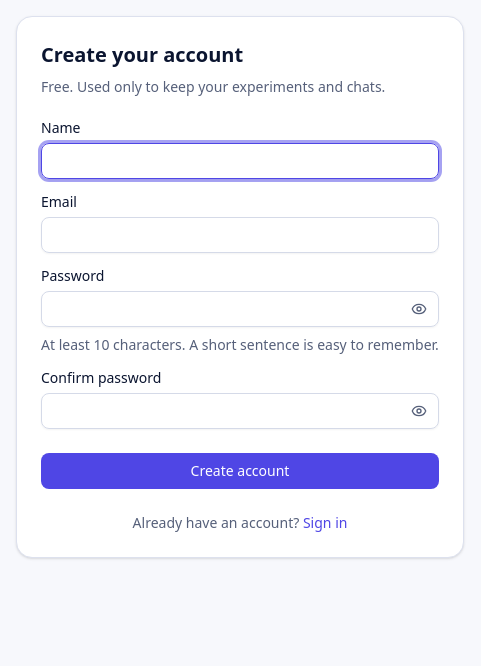
Create account › puts the server's 'email already registered' message under the email field
Type "Asha" into the field labelled "Name" at (240, 161), box [41,143,439,179]
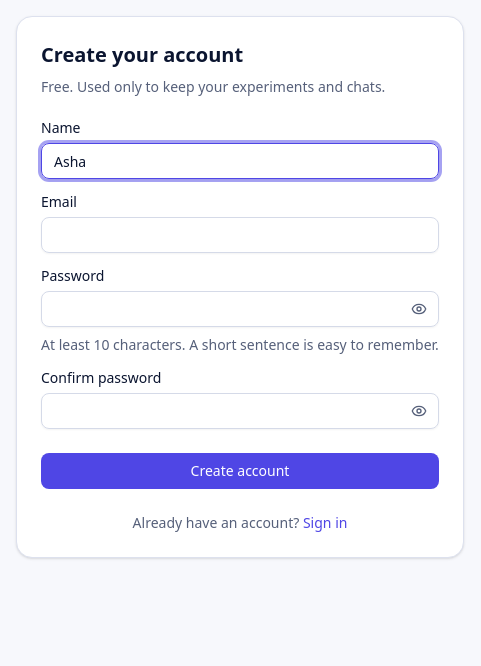
Type "asha@example.com" into the field labelled "Email" at (240, 235), box [41,217,439,253]
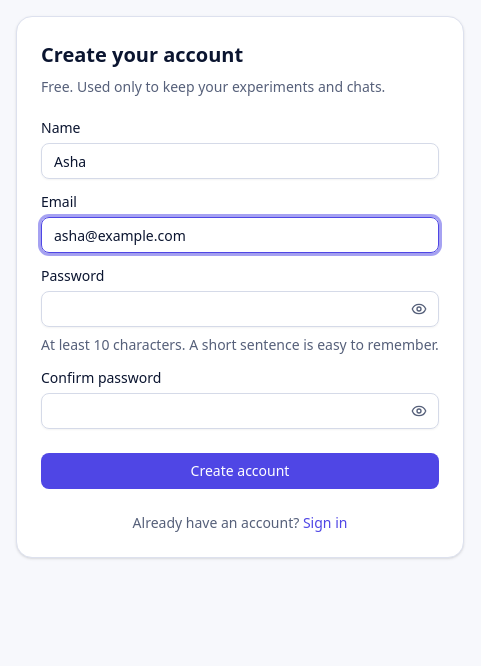
Type "correct horse" into the password field labelled "Password" at (240, 309), box [41,291,439,327]
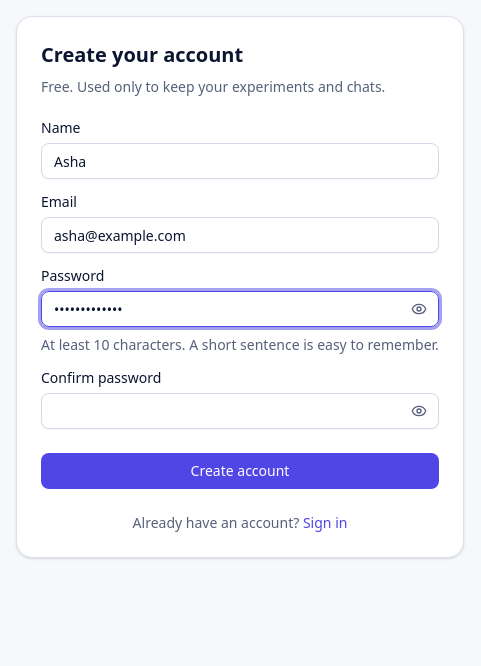
Type "correct horse" into the password field labelled "Confirm password" at (240, 411), box [41,393,439,429]
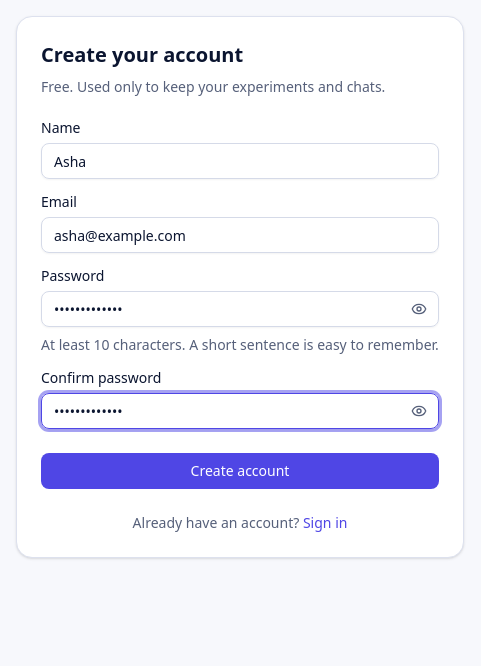
Click the button "Create account" at (240, 471), box [41,453,439,489]
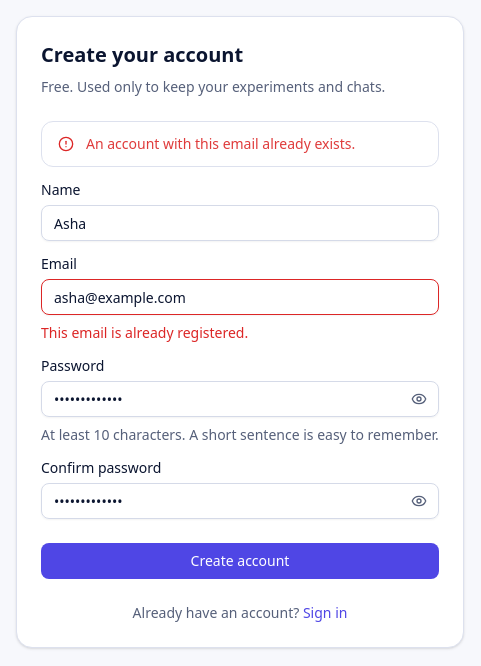
Check: the text "This email is already registered." is shown, box [41,323,248,342]
